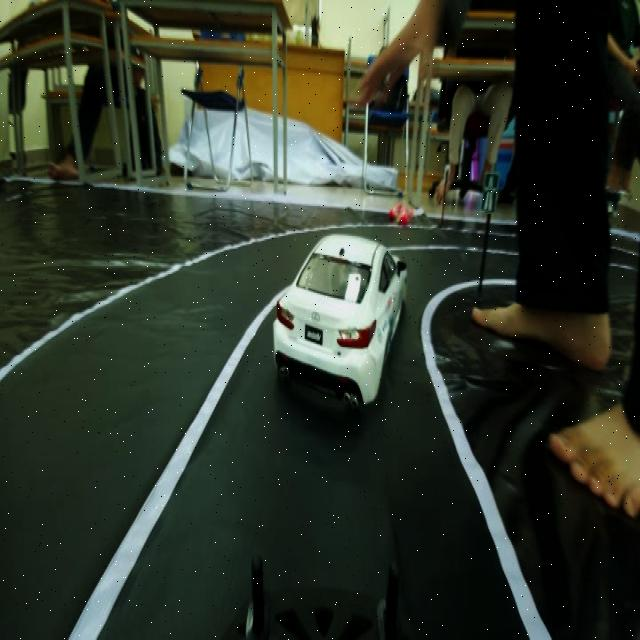car: (276, 196, 404, 418)
highway_entry: (480, 165, 500, 220)
